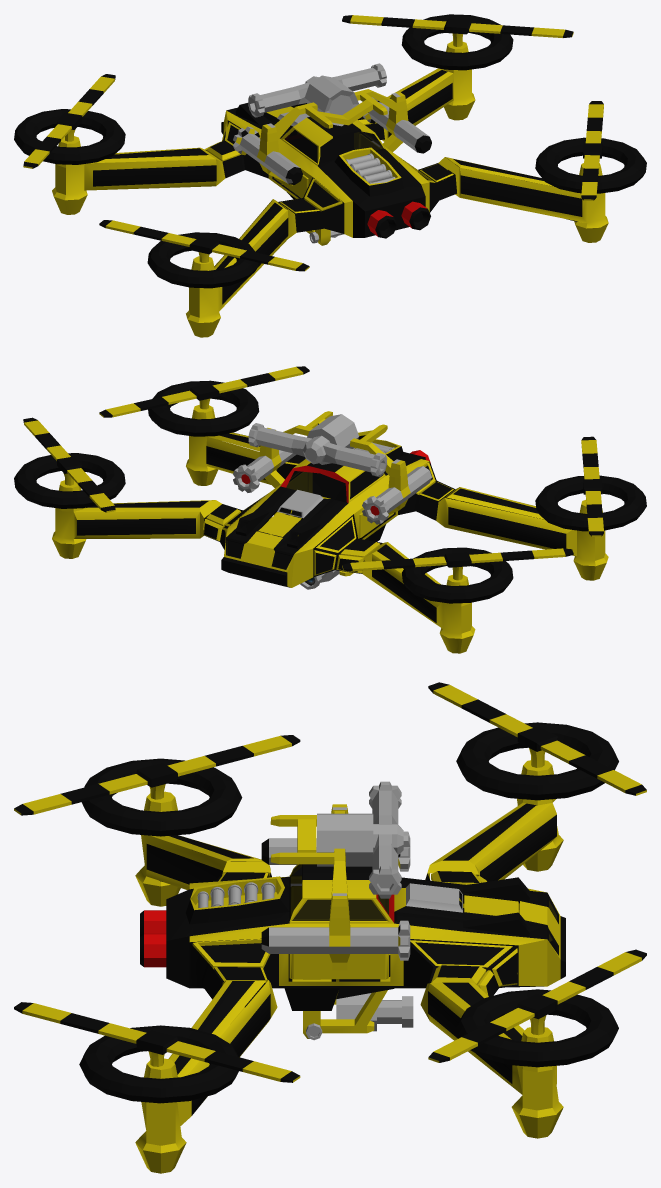
The model's file is drone.obj.
The picture shows the model from 3 angles, top to bottom: view 1: azimuth 30°, elevation 25°; view 2: azimuth 150°, elevation 25°; view 3: azimuth 270°, elevation 25°; orthographic projection. The views are drawn at different scales.
Visible parts, largest first — view 1: drone_costum_Cube; view 2: drone_costum_Cube; view 3: drone_costum_Cube.
Boxes of the visible parts, bbox=[...] form: drone_costum_Cube: bbox=[14, 14, 646, 337]; drone_costum_Cube: bbox=[14, 366, 646, 653]; drone_costum_Cube: bbox=[14, 682, 646, 1173].
Bounding box in the file's own units: 12.4 × 3.35 × 8.76.
7 materials, 1 textured.
